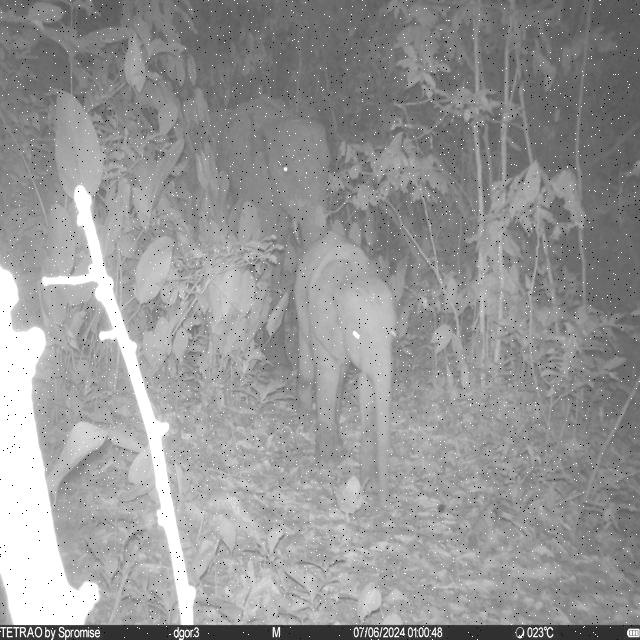calf: (293, 230, 395, 514)
ear: (219, 97, 289, 212), (307, 257, 355, 366)
elephant: (208, 95, 334, 246)
tusk: (292, 219, 303, 246)
